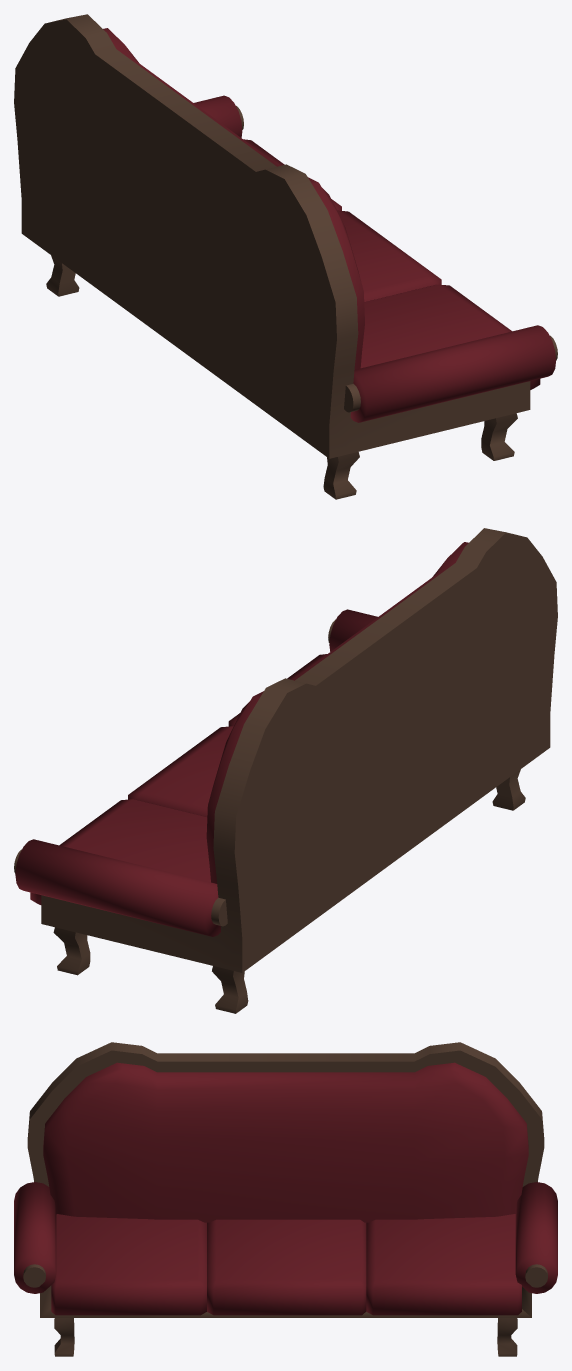
File: S_Sofa.fbx
3 views of the same model, one above another, from view 1: azimuth 30°, elevation 25°; view 2: azimuth 150°, elevation 25°; view 3: azimuth 270°, elevation 25° (orthographic). The views are drawn at different scales.
Parts seen in each view (by area): view 1: S_Sofa; view 2: S_Sofa; view 3: S_Sofa.
Part boxes in pixels (bbox=[...]): S_Sofa: bbox=[14, 14, 557, 499]; S_Sofa: bbox=[14, 528, 557, 1013]; S_Sofa: bbox=[14, 1042, 557, 1356].
Bounding box in the file's own units: 102 × 132 × 272.
